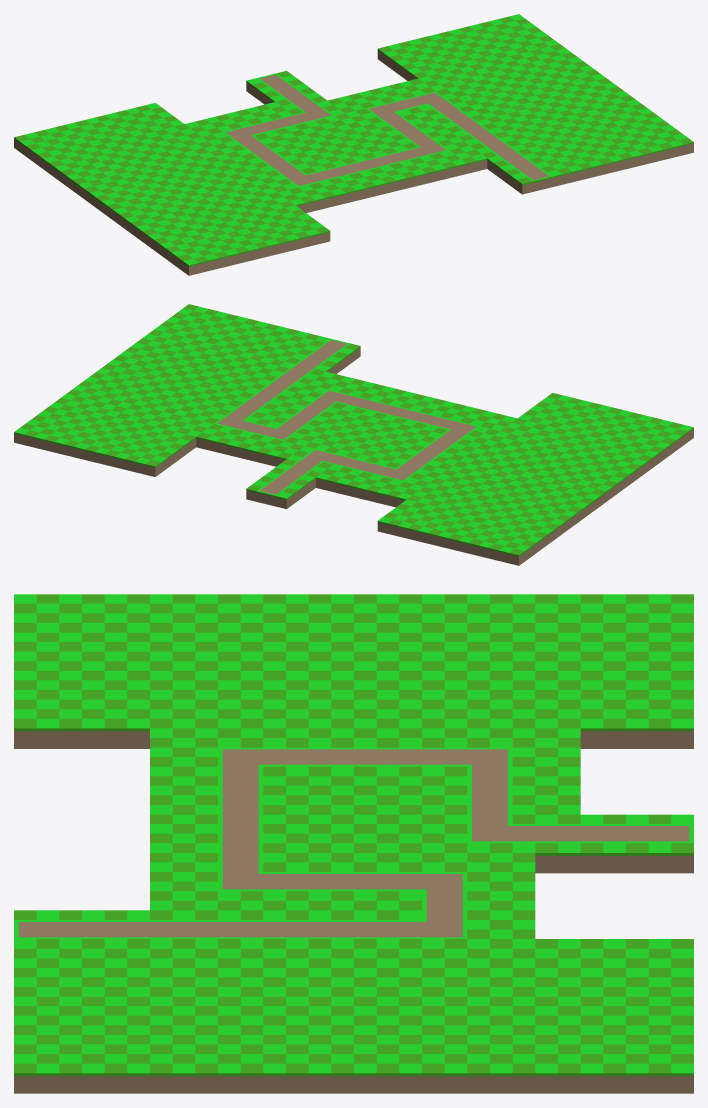
Rendered from Map 02.fbx.
3 views of the same model, one above another, from view 1: azimuth 30°, elevation 25°; view 2: azimuth 150°, elevation 25°; view 3: azimuth 270°, elevation 25° (orthographic). The views are drawn at different scales.
Parts seen in each view (by area): view 1: Plane.009; view 2: Plane.009; view 3: Plane.009.
Boxes of the visible parts, x1=… form: Plane.009: x1=14, y1=14, x2=693, y2=275; Plane.009: x1=14, y1=304, x2=693, y2=565; Plane.009: x1=14, y1=594, x2=693, y2=1093.
Size of the model in its own units: 500 by 10 by 300.
